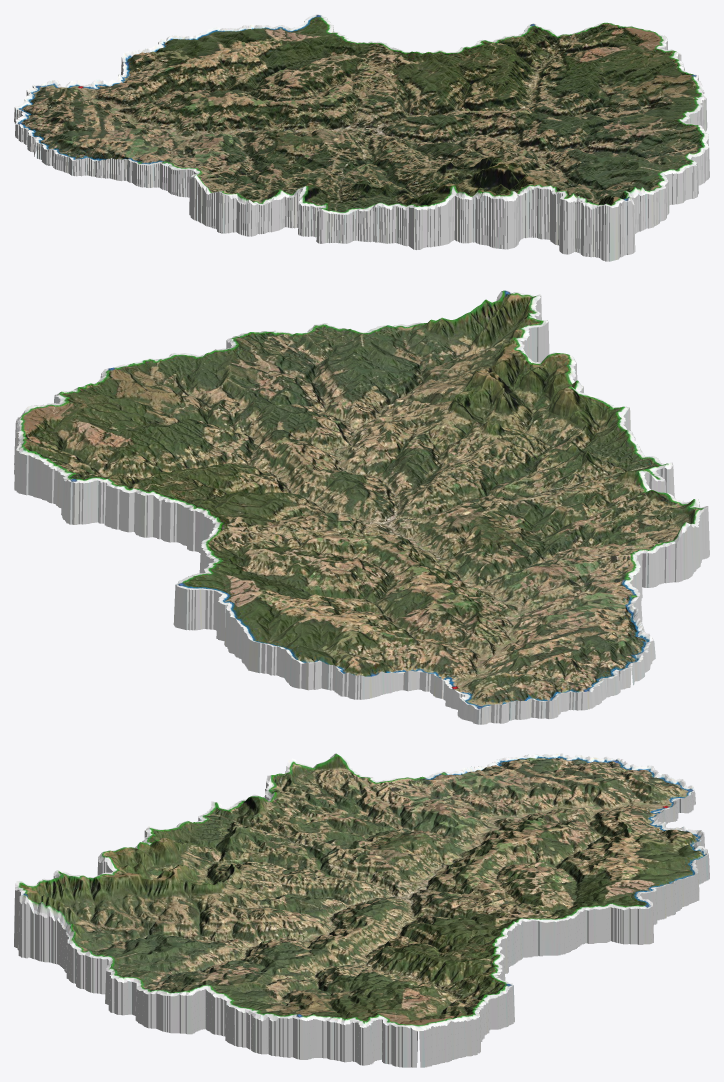
3 renders of one model, top to bottom at view 1: azimuth 30°, elevation 25°; view 2: azimuth 150°, elevation 25°; view 3: azimuth 270°, elevation 25°, orthographic. The views are drawn at different scales.
Bounding box in the file's own units: 1 × 0.0944 × 0.9872.
Materials: 1 (1 with a texture image).
